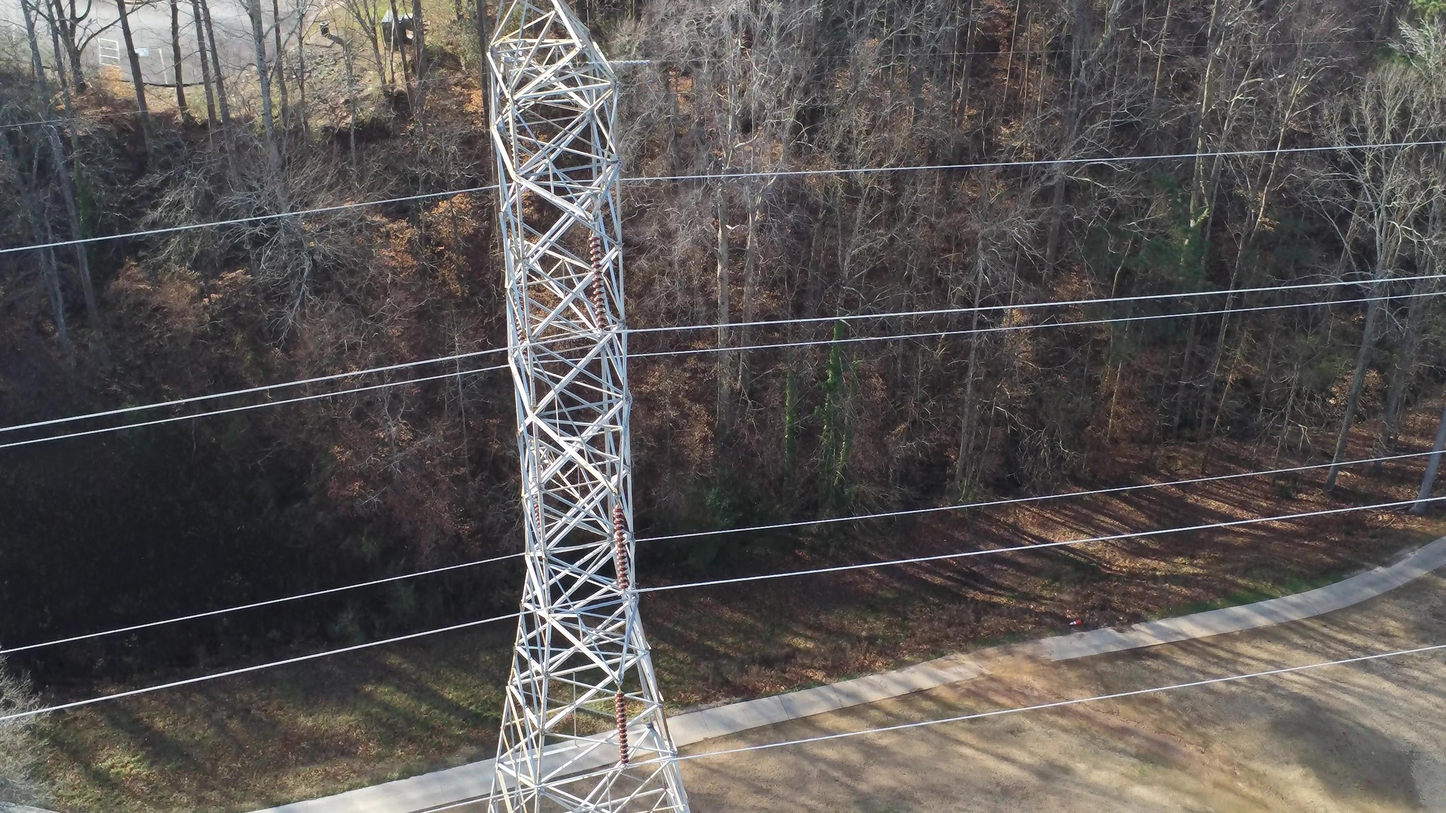power_tower: (487, 0, 689, 813)
